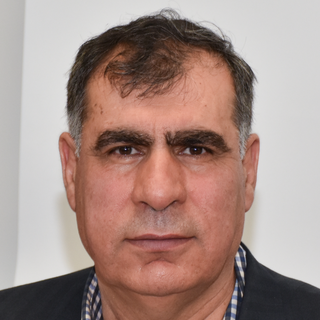eye: (173, 138, 222, 163), (99, 139, 147, 163)
